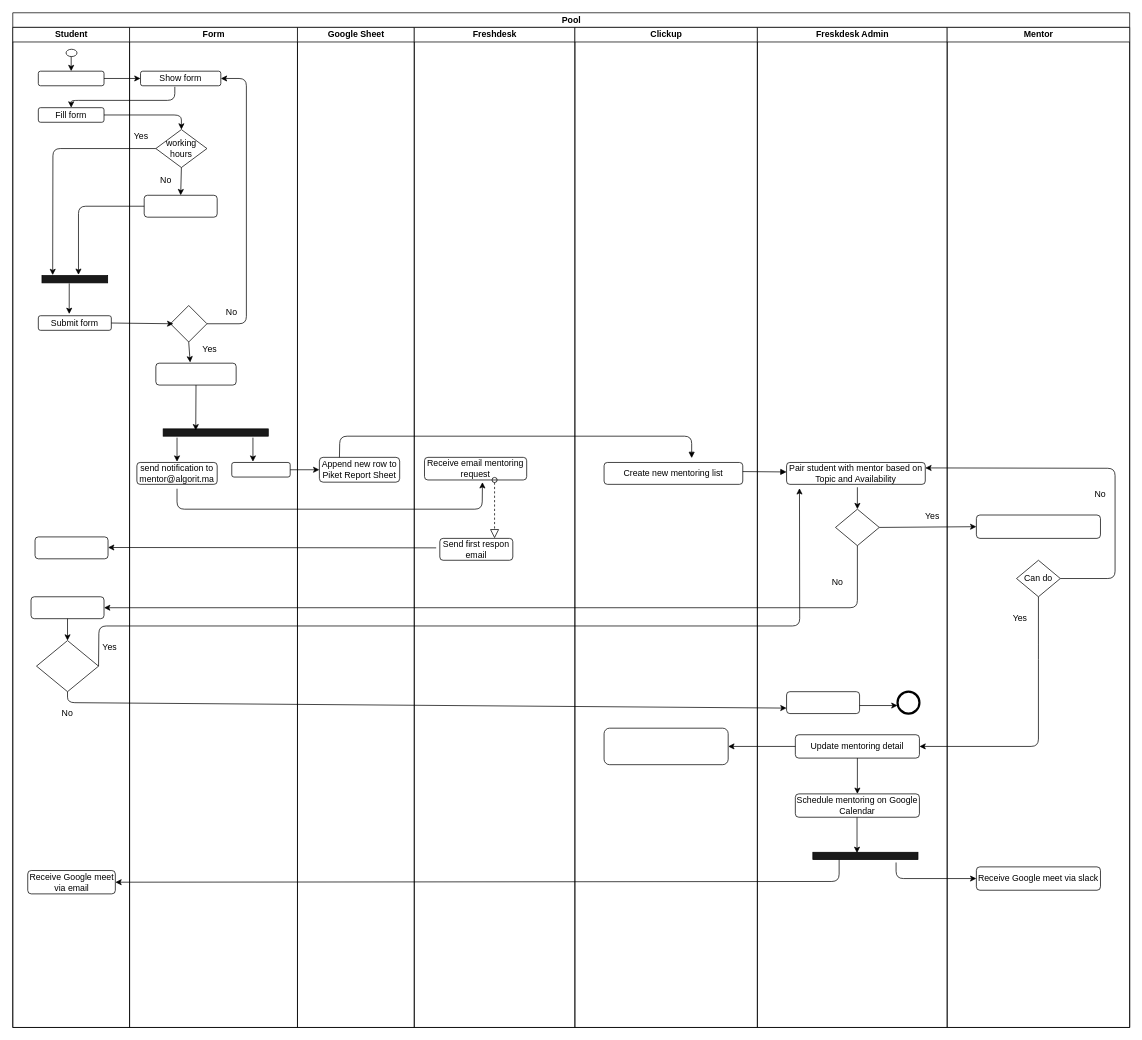
The diagram is 1142 pixels wide and 1040 high, and some of its shapes have lost their labels. The centre of each missing label's shape, as x and y in pixels:
- Assign date - Assign to: pixel 665 746
Access form: pixel 71 78
Available: pixel 857 527
Cancel mentoring: pixel 823 702
Confirm to admin via email: pixel 67 607
Confirm to admin via slack: pixel 1038 526
export data: pixel 260 469
Receive first respon email: pixel 71 547
Satisfied: pixel 188 323
Show success message: pixel 195 373
Show warning message: pixel 180 206
willing to reschedule: pixel 67 666
